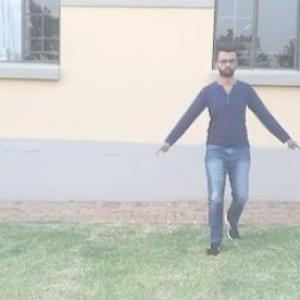land: (154, 48, 300, 264)
